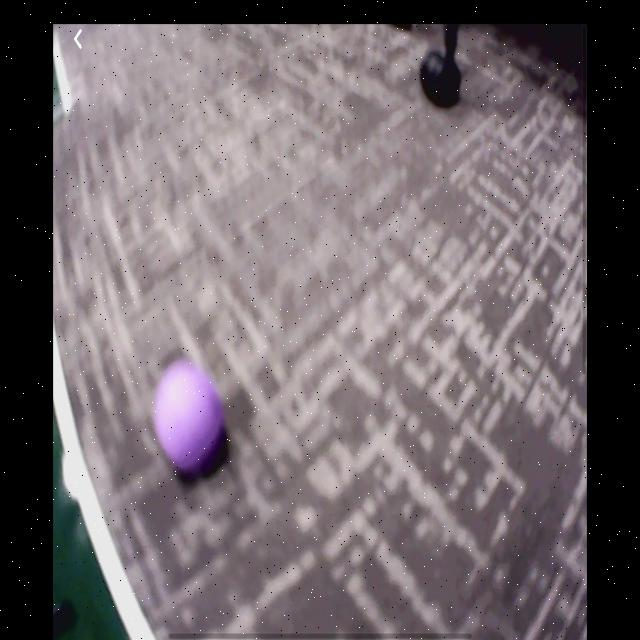ball: (153, 358, 230, 481)
